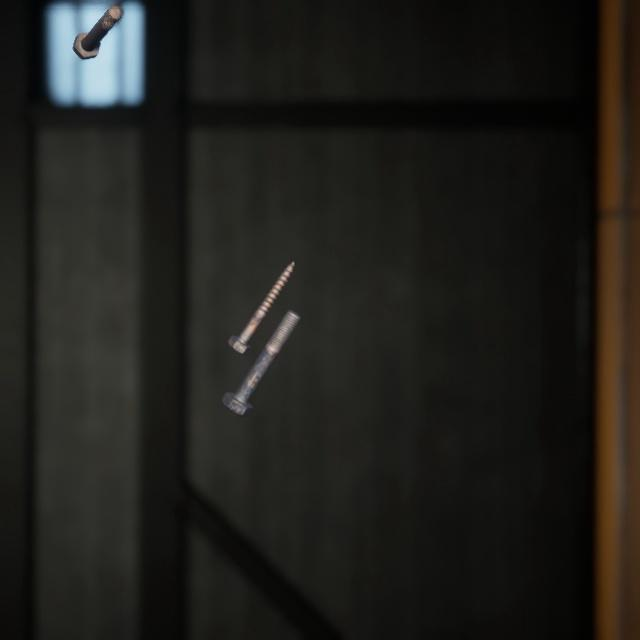bolt: (217, 286, 305, 402), (223, 238, 299, 341), (68, 0, 126, 55)
